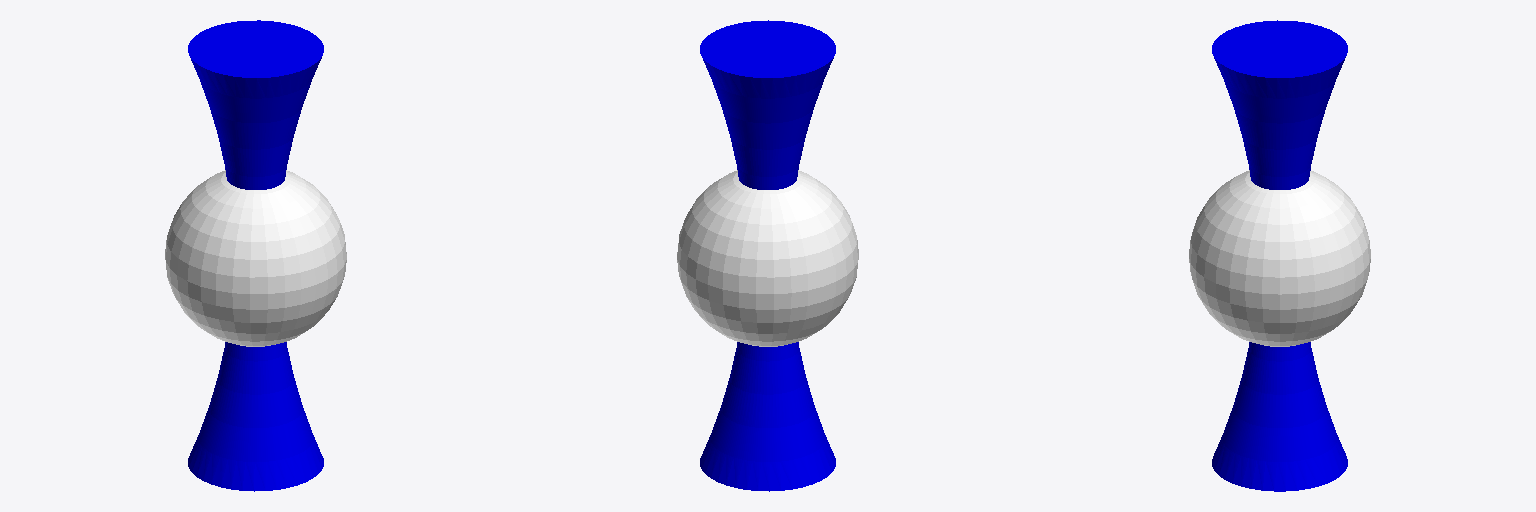
The robot description file, URDF, robot "pan_tilt":
<?xml version="1.0"?>
<robot name="pan_tilt">

	<!-- definire culori -->
	<material name="white">
		<color rgba="1 1 1 0.3"/>
	</material>

	<material name="blue">
		<color rgba="0 0 1 0.5"/>
	</material>

	<material name="yellow">
		<color rgba="1 1 0 1"/>
	</material>

	<material name="red">
		<color rgba="1 0 0 0.8"/>
	</material>


	<!-- baza robotului -->
	<link name="base_link">

		<!-- baza robotului VIZUAL-->
		<visual>

			<!-- baza robotului GEOMETRIE-->
			<geometry>
				<mesh filename="package://pantilt_ros/meshes/baza.STL"/>
				<!-- <box size="1 1 0.05"/> -->
			</geometry>
			<material name="red"/>
			<origin rpy="0 0 0" xyz="0 0 0.025"/>

		</visual>

	</link>


	<!-- element de tip pan -->
	<link name="pan_link">

		<!-- baza robotului VIZUAL-->
		<visual>

			<!-- baza robotului GEOMETRIE-->
			<geometry>
				<mesh filename="package://pantilt_ros/meshes/pan_stalp.STL"/>
				<!-- <box size="0.1 0.1 1"/> -->
			</geometry>
			<material name="yellow"/>
			<origin rpy="0 0 0" xyz="0 0 0.5"/>
		</visual>

	</link>

	<!-- element de tip sfera -->
	<link name="sphere_link">

		<!-- baza robotului VIZUAL-->
		<visual>

			<!-- baza robotului GEOMETRIE-->
			<geometry>
				<sphere radius="0.1"/>
			</geometry>
			<material name="white"/>
			<origin rpy="0 0 0" xyz="0 0 0"/>
		</visual>

	</link>

	<!-- element de tip tilt -->
	<link name="tilt_link">

		<!-- baza robotului VIZUAL-->
		<visual>

			<!-- baza robotului GEOMETRIE-->
			<geometry>
                <mesh filename="package://pantilt_ros/meshes/tilt_stalp.STL"/>
				<!-- <cylinder length="0.5" radius="0.075"/> -->
			</geometry>
			<material name="blue"/>
			<origin rpy="0 0 0" xyz="0 0 0"/>
		</visual>

	</link>


	<!--CUPLE: baza robotului & paralelipiped -->
	<joint name="pan_joint" type="revolute">
		<parent link="base_link"/>
		<child link="pan_link"/>

		<origin xyz="0 0 0.05"/>
		<axis xyz="0 0 1" />
		<limit effort="300" velocity="0.1" lower="-3.14" upper="3.14"/>
	</joint>

	<!--CUPLE: paralelipiped & sfera -->
	<joint name="sphere_joint" type="fixed">
		<parent link="pan_link"/>
		<child link="sphere_link"/>

		<origin xyz="0 0 1"/>
	</joint>

	<!--CUPLE: element pan & element tilt -->
	<joint name="tilt_joint" type="revolute">
		<parent link="pan_link"/>
		<child link="tilt_link"/>

		<origin xyz="0 0 1"/>
		<!-- e relativa distanta de la originea link1 la link2 -->
		<!-- setari limite alte cuplului, vitezei unghiuri limita ale cuplei
        	aici cupla are limita de 0deg...+180deg valorile sunt trecute in radiani
        	 -->
		<axis xyz="0 1 0" />
		<limit effort="300" velocity="0.1" lower="0" upper="3.14"/>
	</joint>

</robot>

--- What the picture shows (computed from the rendered views, not written in the file) ---
The picture shows the robot from 3 angles, left to right: view 1: azimuth 30°, elevation 25°; view 2: azimuth 150°, elevation 25°; view 3: azimuth 270°, elevation 25°; orthographic projection.
Model pan_tilt with 4 links and 3 joints (2 revolute, 1 fixed), rooted at base_link, posed all joints at 0.
Links seen in each view (by area): view 1: tilt_link, sphere_link; view 2: tilt_link, sphere_link; view 3: tilt_link, sphere_link.
Link boxes in pixels (left/top/right/bottom): tilt_link: left=188, top=20, right=323, bottom=491; sphere_link: left=165, top=170, right=346, bottom=346; tilt_link: left=700, top=20, right=835, bottom=491; sphere_link: left=677, top=170, right=858, bottom=346; tilt_link: left=1212, top=20, right=1347, bottom=491; sphere_link: left=1189, top=170, right=1370, bottom=346.
Bounding box of the posed robot: 0.2 × 0.2 × 0.5 m (x, y, z).
1 mesh visuals loaded from 3 distinct referenced files (1 binary STL); not drawn: 2 (reference not matched to a file when rendering).